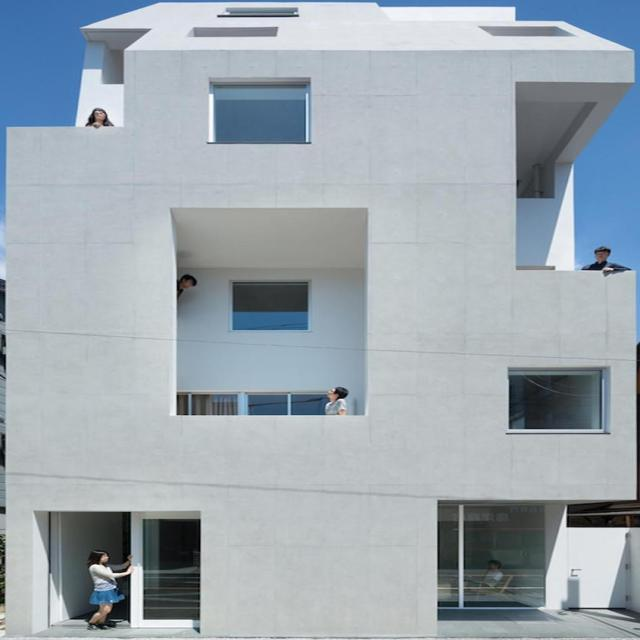door: (130, 513, 203, 630)
window: (436, 506, 546, 610), (507, 370, 605, 429), (212, 83, 308, 142), (178, 392, 335, 417), (231, 281, 309, 330)
